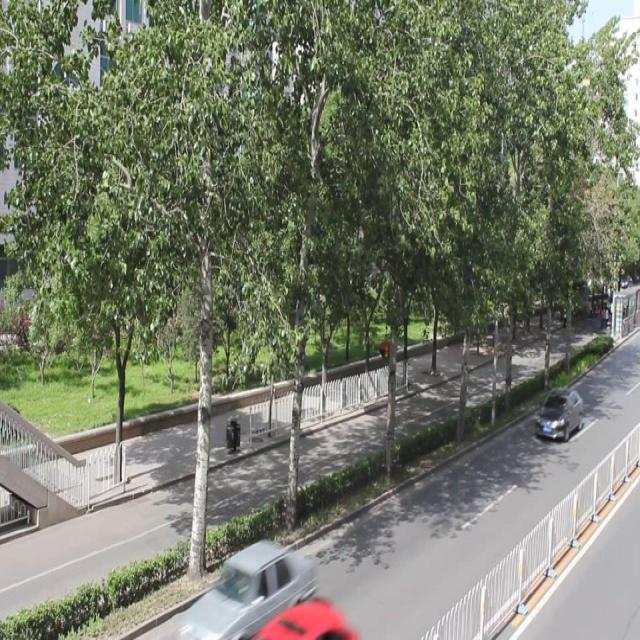car: (185, 539, 314, 640), (256, 596, 348, 640), (534, 385, 582, 440)
